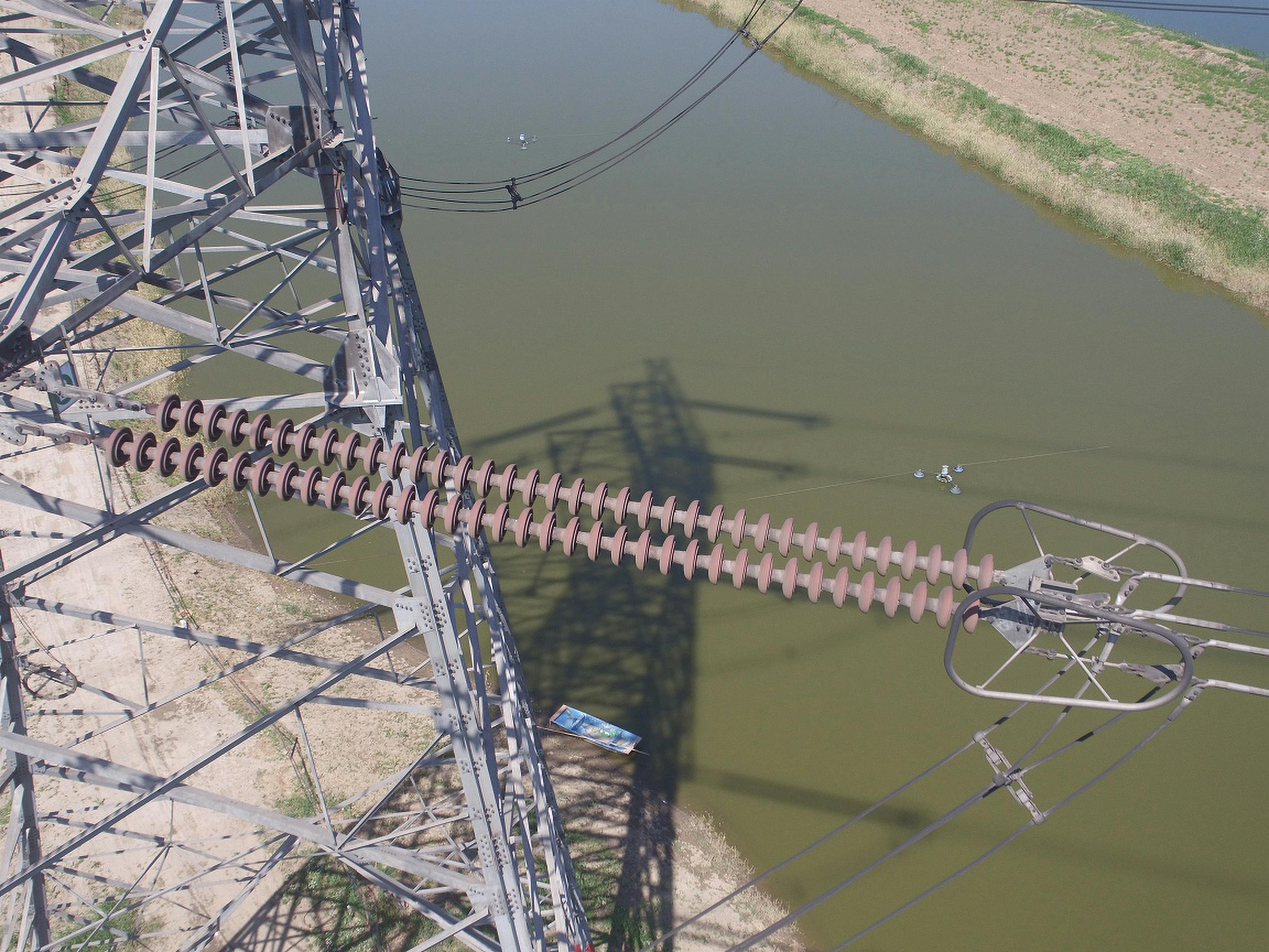insulator: (101, 390, 999, 639)
